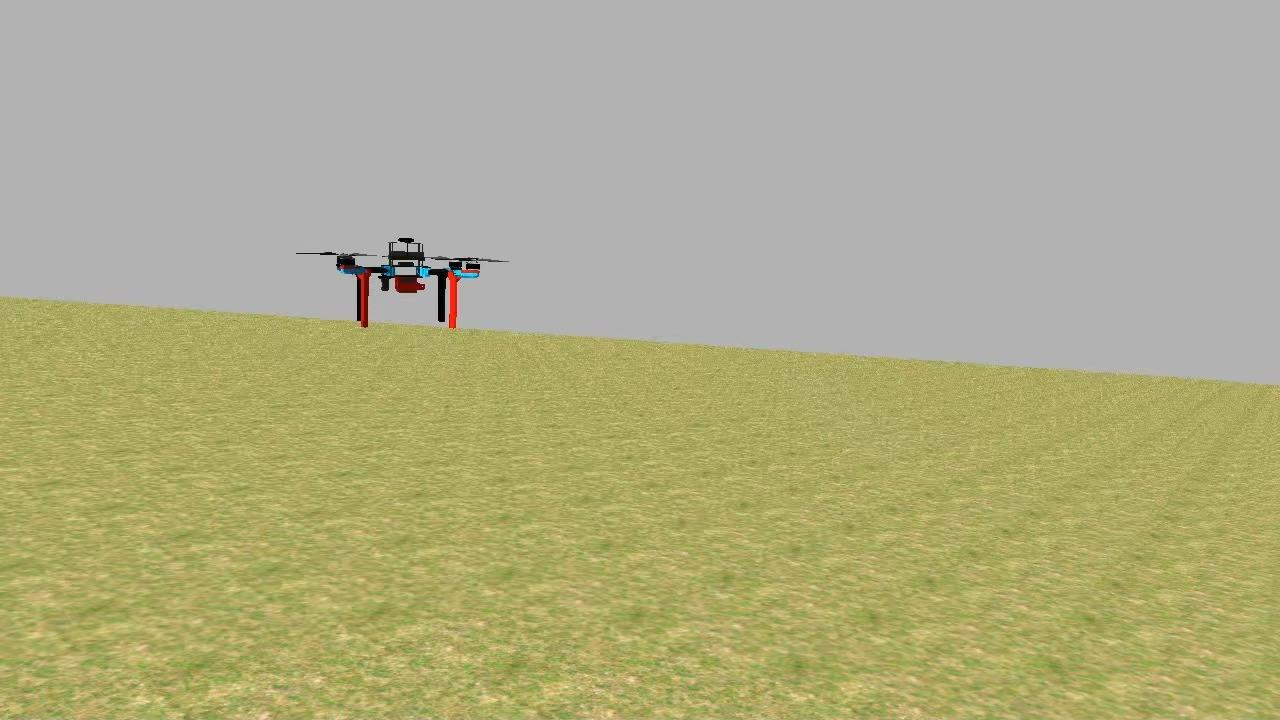UAV: (323, 228, 487, 338)
